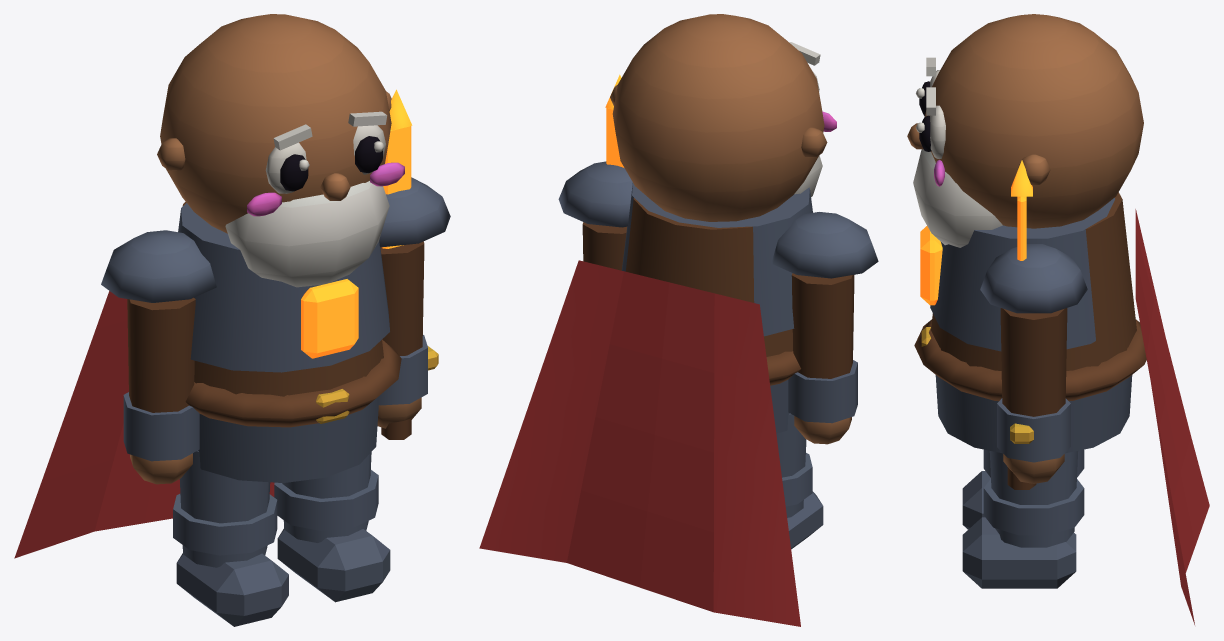
The model's file is hero_dorrin.glb.
The picture shows the model from 3 angles, left to right: view 1: azimuth 30°, elevation 25°; view 2: azimuth 150°, elevation 25°; view 3: azimuth 270°, elevation 25°; orthographic projection. The views are drawn at different scales.
Parts seen in each view (by area): view 1: body_t0_palette, arml_t0_palette, legl_t0_palette, legr_t0_palette, armr_t0_palette, body_t0_fire, armr_t0_fire; view 2: body_t0_palette, arml_t0_palette, armr_t0_palette, legl_t0_palette, armr_t0_fire; view 3: body_t0_palette, armr_t0_palette, legr_t0_palette, body_t0_fire, legl_t0_palette, armr_t0_fire.
Part boxes in pixels (bbox=[...]): body_t0_palette: bbox=[14, 14, 404, 558]; arml_t0_palette: bbox=[101, 230, 216, 484]; legl_t0_palette: bbox=[173, 450, 288, 626]; legr_t0_palette: bbox=[274, 452, 390, 602]; armr_t0_palette: bbox=[377, 177, 450, 439]; body_t0_fire: bbox=[301, 279, 358, 358]; armr_t0_fire: bbox=[382, 89, 412, 248]; body_t0_palette: bbox=[479, 14, 836, 626]; arml_t0_palette: bbox=[772, 212, 878, 444]; armr_t0_palette: bbox=[558, 161, 632, 270]; legl_t0_palette: bbox=[776, 413, 823, 548]; armr_t0_fire: bbox=[605, 74, 624, 167]; body_t0_palette: bbox=[907, 14, 1209, 624]; armr_t0_palette: bbox=[980, 244, 1087, 489]; legr_t0_palette: bbox=[962, 451, 1084, 588]; body_t0_fire: bbox=[920, 226, 942, 305]; legl_t0_palette: bbox=[962, 449, 1084, 529]; armr_t0_fire: bbox=[1011, 160, 1032, 260].
Size of the model in its own units: 0.32 by 0.492 by 0.253.
